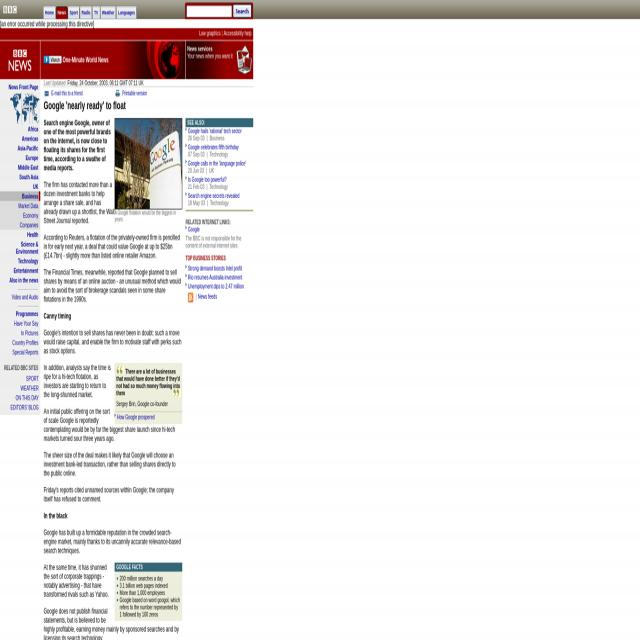button: (115, 118, 182, 210), (0, 40, 40, 79), (10, 92, 40, 124), (237, 45, 253, 75), (233, 5, 251, 18), (117, 7, 137, 18), (101, 7, 117, 18), (56, 7, 68, 19), (44, 56, 62, 64), (44, 7, 56, 18), (68, 7, 80, 18), (81, 7, 93, 18), (3, 5, 17, 14), (94, 7, 100, 19), (116, 366, 124, 374), (173, 390, 181, 398), (188, 292, 193, 302), (116, 90, 121, 96), (45, 90, 50, 96)
field: (186, 6, 232, 17)
